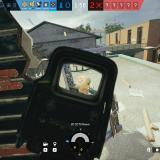Character: (74, 74, 97, 96)
Head: (77, 75, 91, 94)
